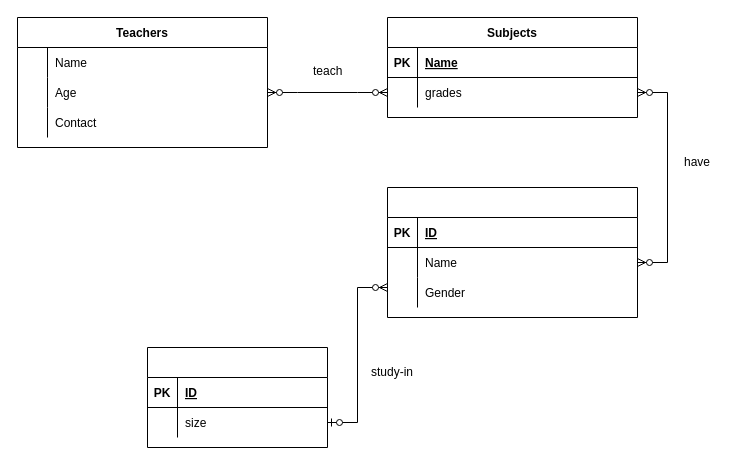
This 745x465 diagram has some shape labels left out. The shapes that lost their labels are listed below. From the top down, each one's box as (x1, y1, x2, y2) in pixels, then its label:
(386, 186, 638, 318): Students
(146, 346, 328, 448): Class
